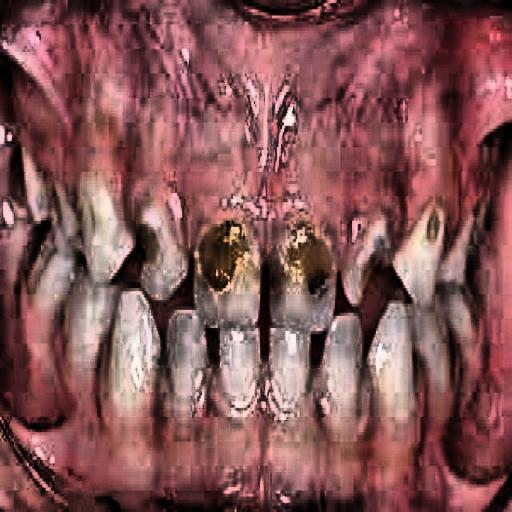Caries: (276, 210, 344, 312), (192, 210, 256, 300)
